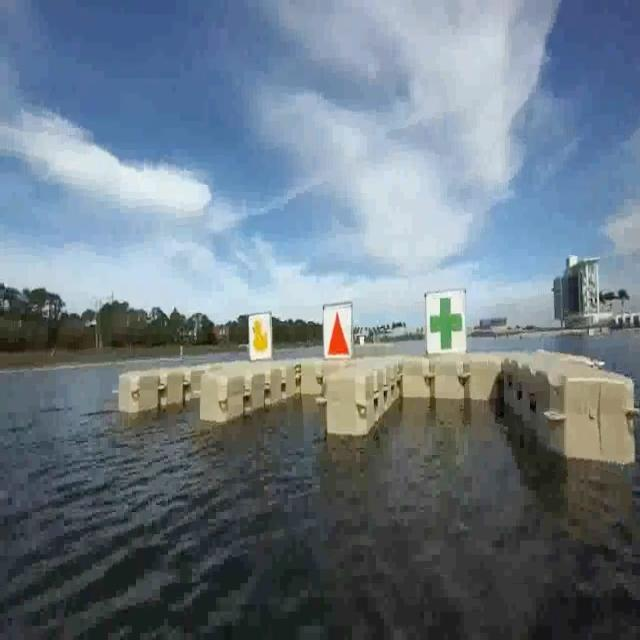blue-cross: (425, 294, 466, 361)
red-dot: (324, 304, 355, 364)
yellow-duck: (247, 314, 272, 360)
